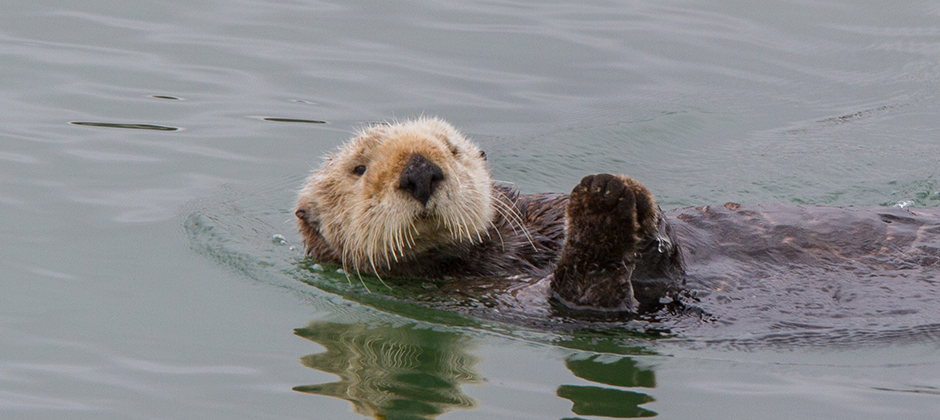otter: (255, 71, 940, 360)
